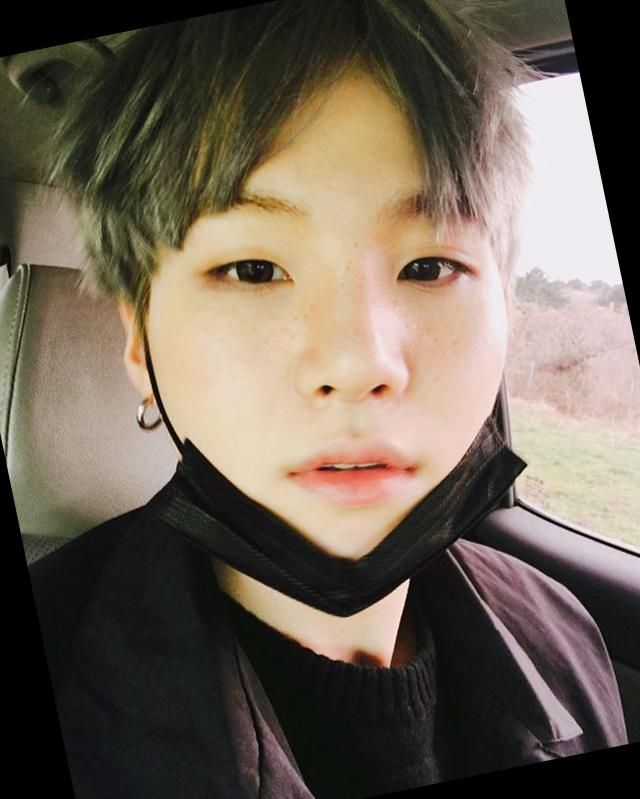mask_weared_incorrect: (141, 163, 536, 611)
